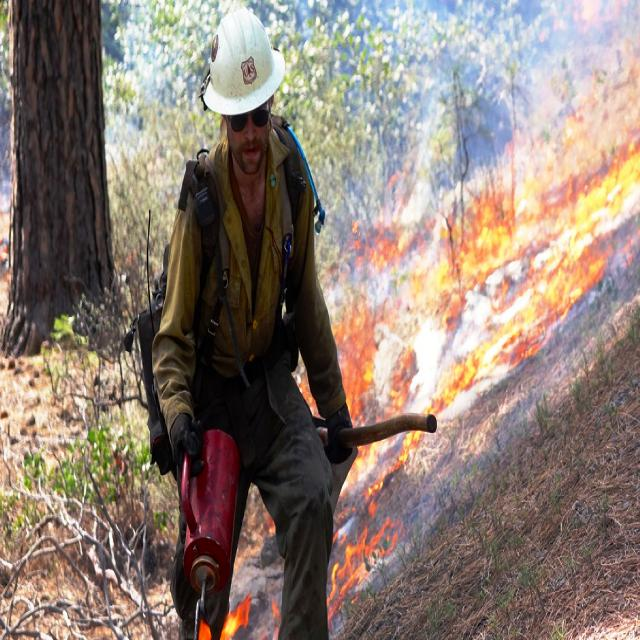api: (369, 137, 640, 499), (327, 507, 402, 628), (196, 592, 261, 640)
